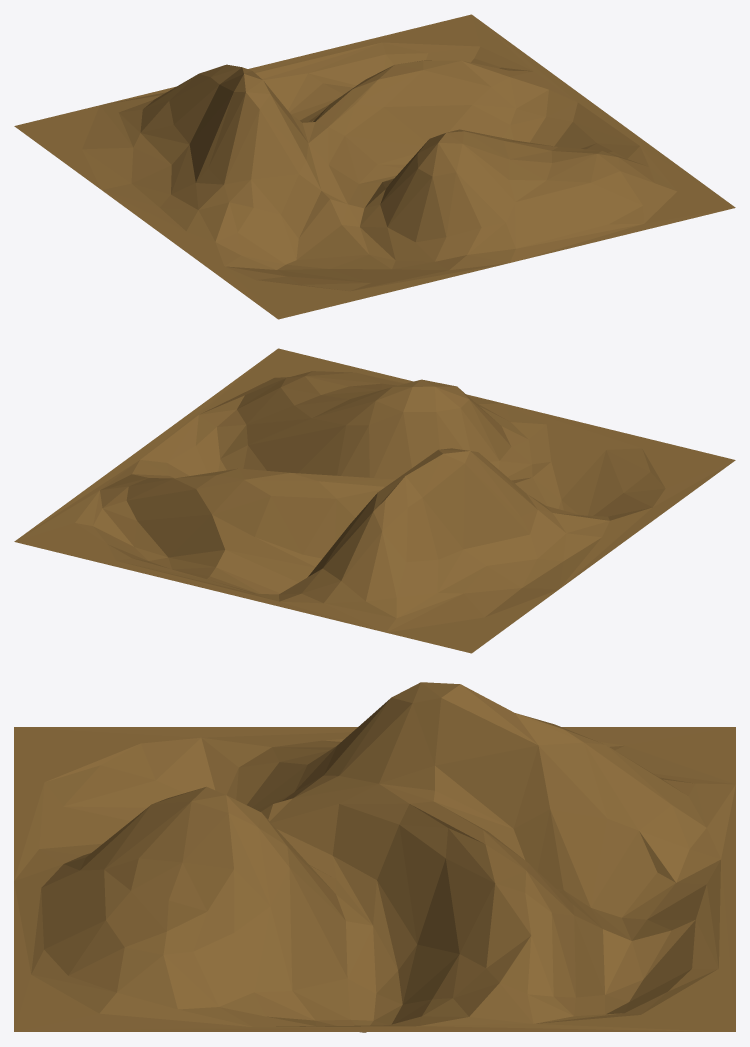
The model's file is Terrain_18.fbx.
3 views of the same model, one above another, from view 1: azimuth 30°, elevation 25°; view 2: azimuth 150°, elevation 25°; view 3: azimuth 270°, elevation 25° (orthographic). The views are drawn at different scales.
Visible parts, largest first — view 1: Terrain_18; view 2: Terrain_18; view 3: Terrain_18.
Boxes of the visible parts, x1,y1,x2,y2 form: Terrain_18: [14, 14, 735, 319]; Terrain_18: [14, 348, 735, 653]; Terrain_18: [14, 682, 735, 1032].
Bounding box in the file's own units: 20000 × 5516 × 20000.
